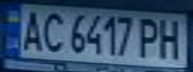1: (100, 12, 118, 56)
4: (84, 11, 103, 55)
6: (63, 10, 87, 54)
7: (115, 12, 136, 56)
A: (15, 7, 45, 53)
C: (39, 9, 66, 54)
H: (154, 16, 187, 61)
P: (133, 15, 163, 58)
